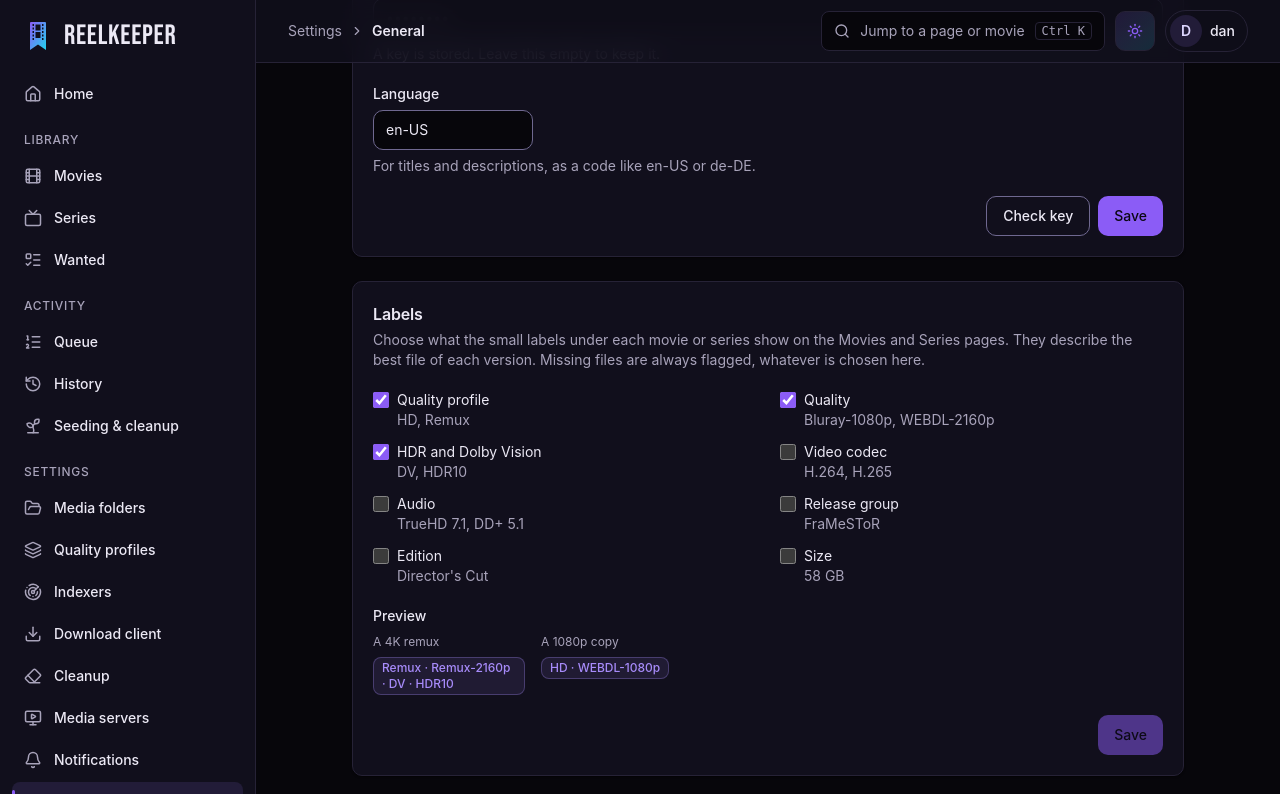
Scenario: labels settings › says when a choice leaves no label
(page scrolled)
Click the checkbox labelled "Quality profile": coordinates (381, 400) [373,392,389,408]
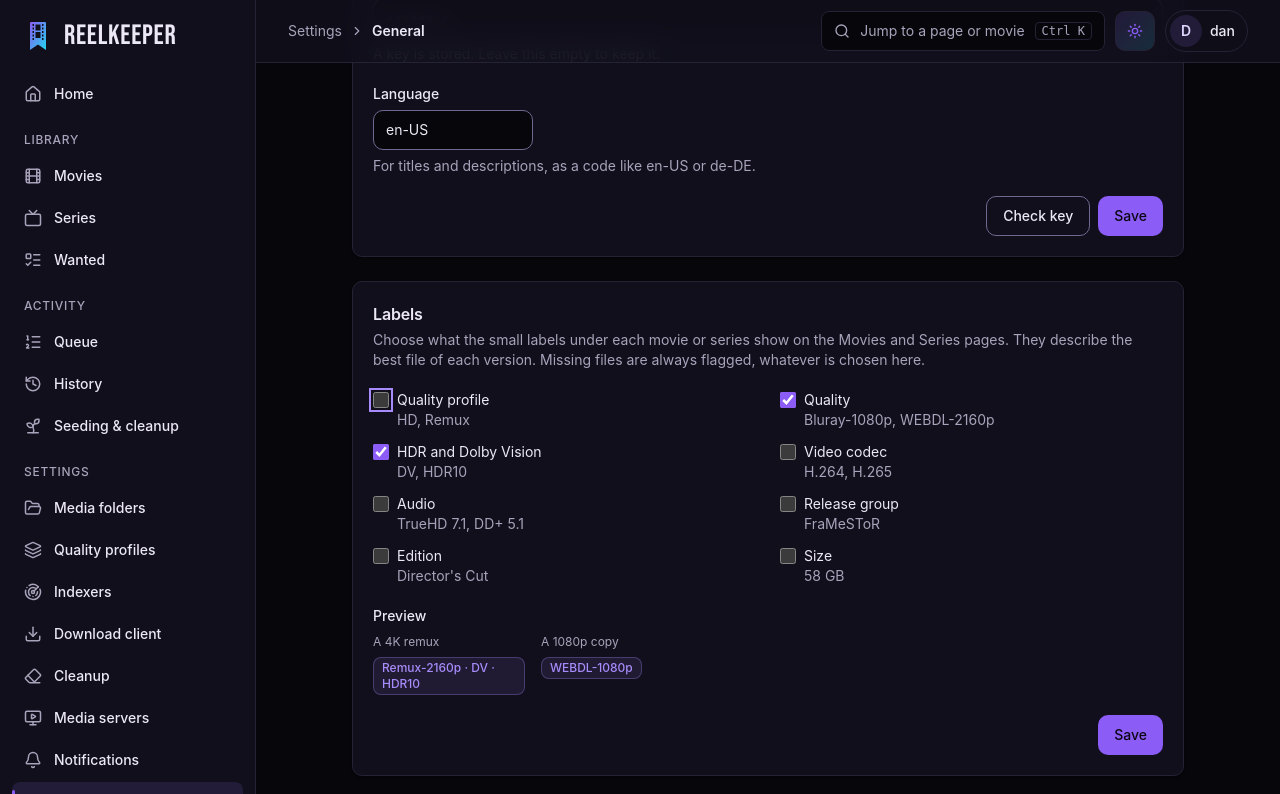
Click the checkbox labelled "Quality": coordinates (788, 400) [780,392,796,408]
(page scrolled)
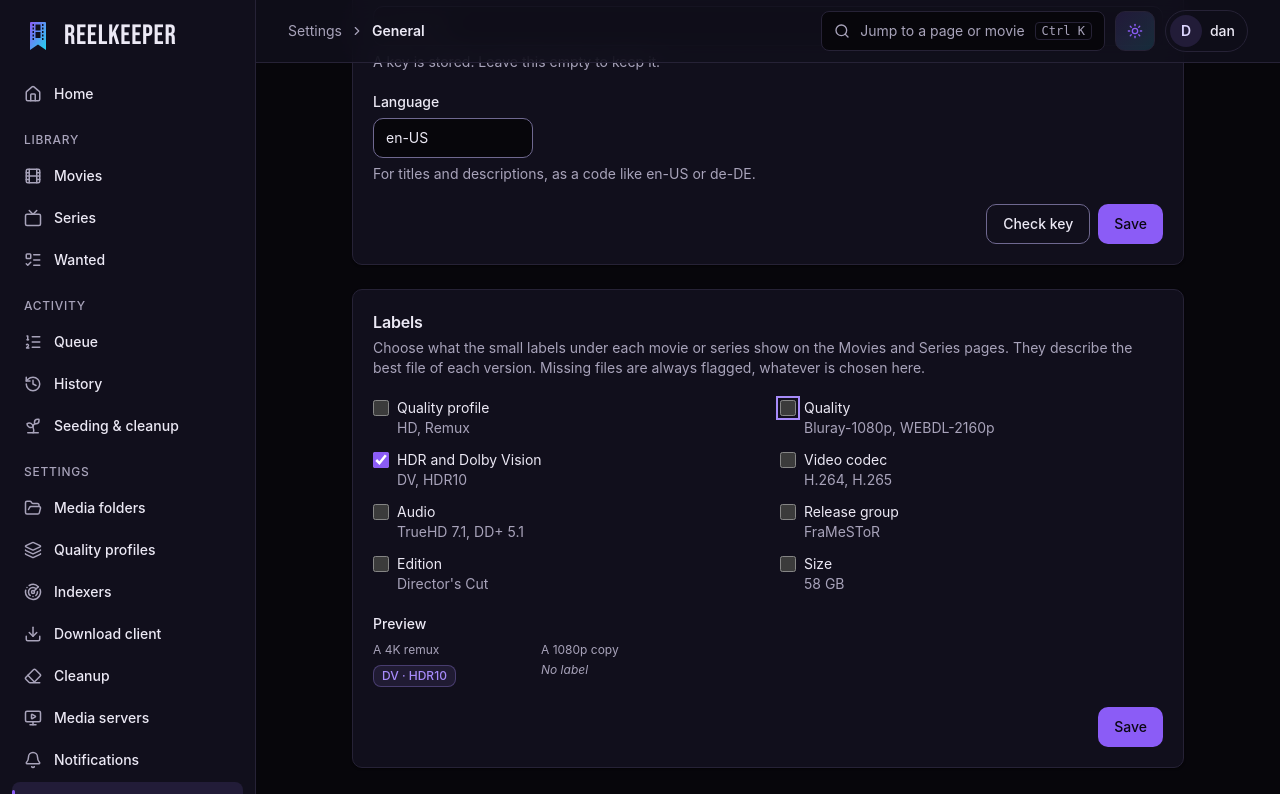
Click the checkbox labelled "HDR and Dolby Vision": coordinates (381, 460) [373,452,389,468]
(page scrolled)
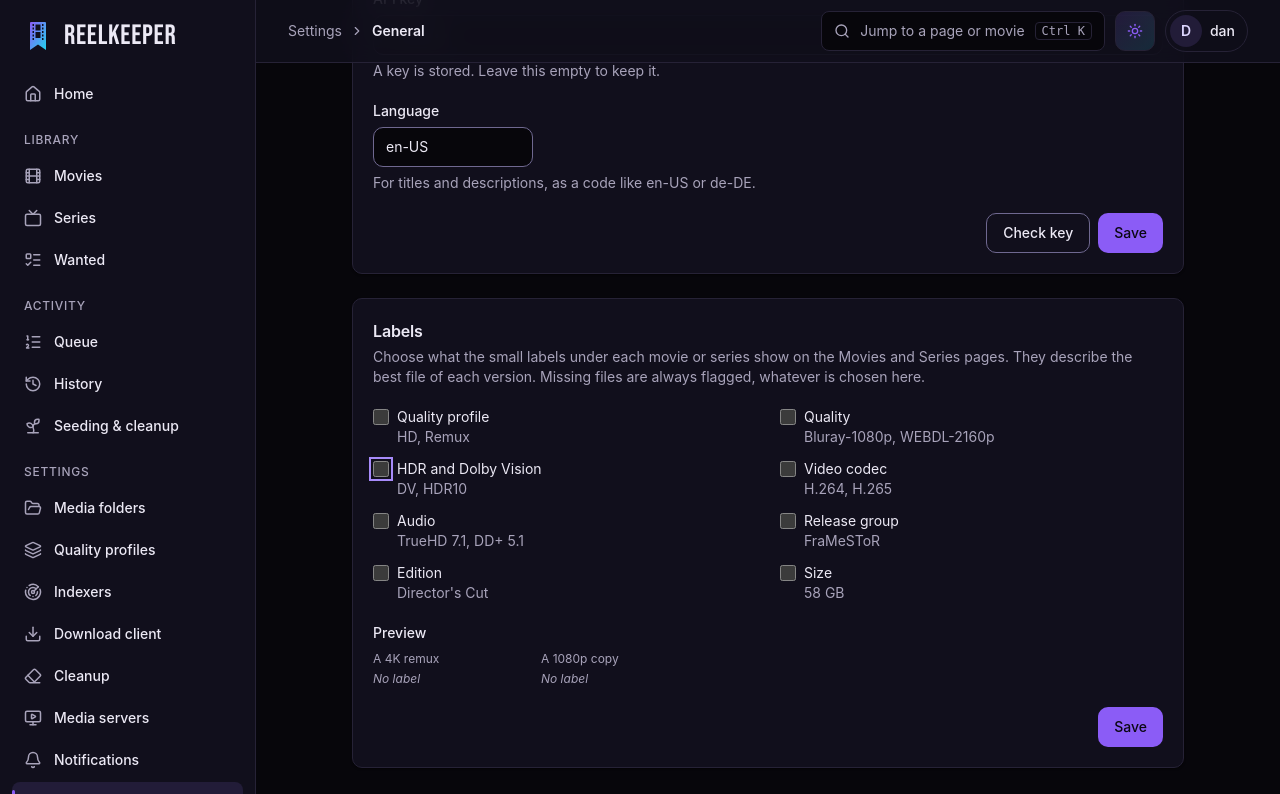
Expected: the text "No label" is shown 2 times, [373,671,420,686]; [541,671,588,686]
